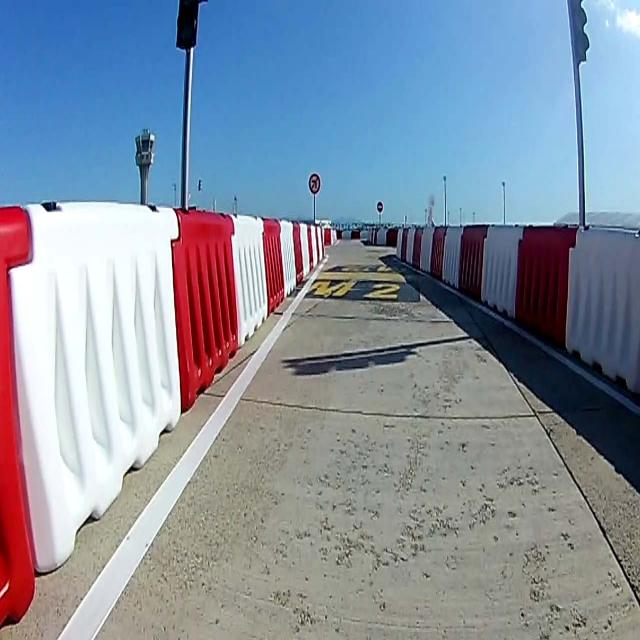girisyok: (377, 202, 383, 213)
soladonulmez: (308, 173, 320, 194)
